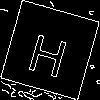H: (25, 24, 73, 79)
